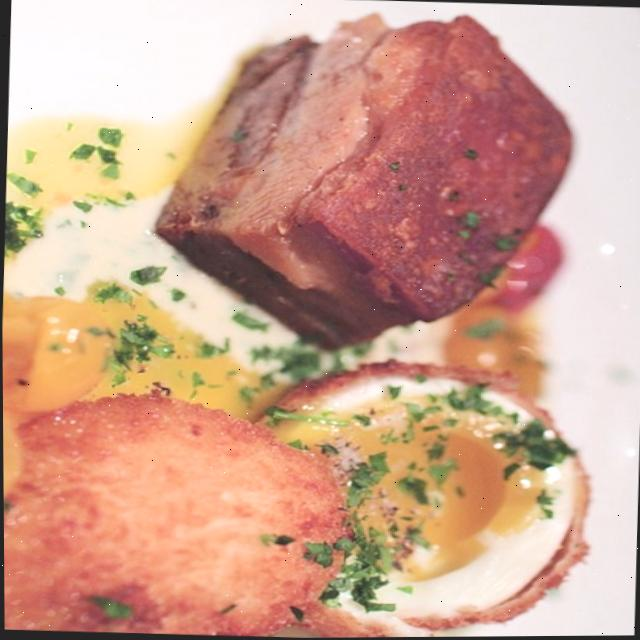牛肉菜式: (118, 0, 621, 398)
